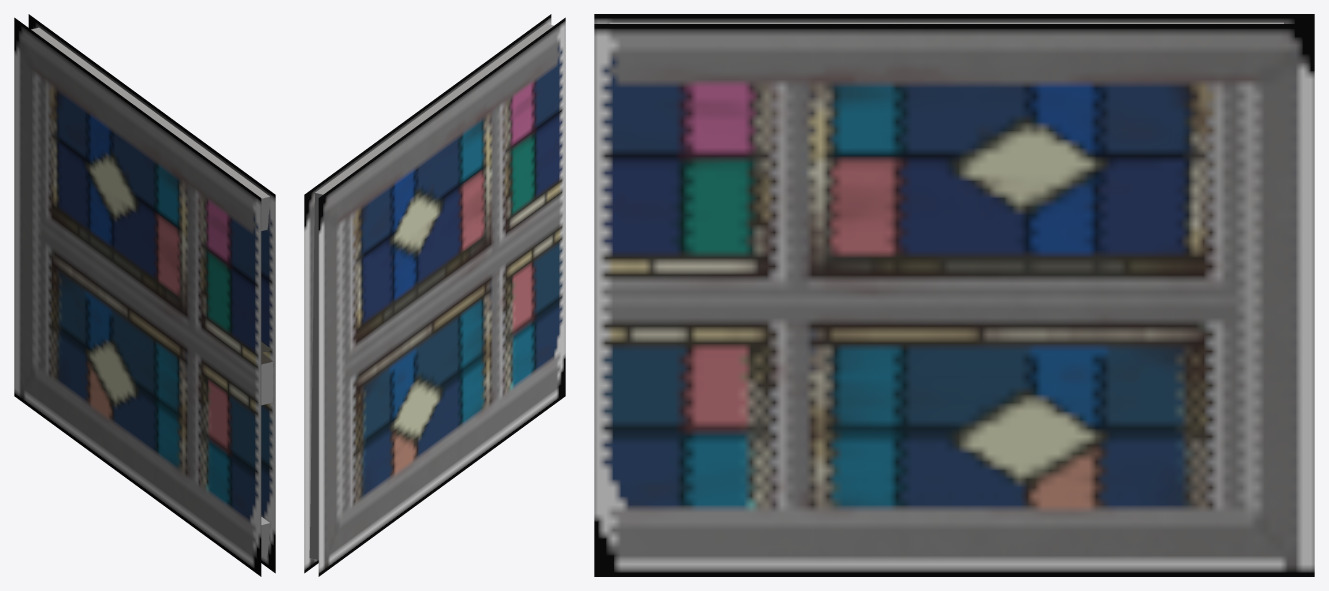
Rendered from pz_native_location_community_church_small_01_124_frame.obj.
3 views of the same model, side by side, from view 1: azimuth 30°, elevation 25°; view 2: azimuth 150°, elevation 25°; view 3: azimuth 270°, elevation 25° (orthographic). The views are drawn at different scales.
Visible parts, largest first — view 1: pz_native_location_community_church_small_01_124_frame; view 2: pz_native_location_community_church_small_01_124_frame; view 3: pz_native_location_community_church_small_01_124_frame.
Boxes of the visible parts, x1,y1,x2,y2 form: pz_native_location_community_church_small_01_124_frame: (14, 14, 275, 576); pz_native_location_community_church_small_01_124_frame: (304, 14, 565, 576); pz_native_location_community_church_small_01_124_frame: (594, 14, 1314, 576).
Bounding box in the file's own units: 0.04 × 1.02 × 1.2.
1 material, 1 textured.
